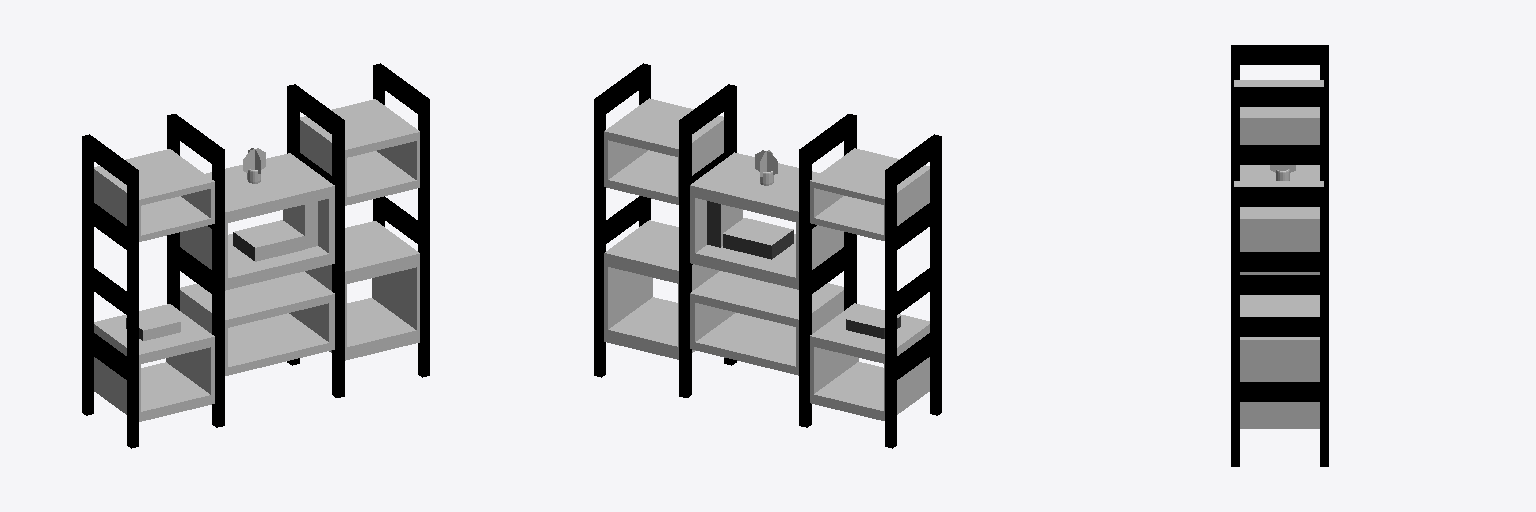
Rendered from etagere.obj.
The picture shows the model from 3 angles: view 1: azimuth 30°, elevation 25°; view 2: azimuth 150°, elevation 25°; view 3: azimuth 270°, elevation 25°; orthographic projection.
Visible parts, largest first — view 1: Pot.003_Cylinder.013; view 2: Pot.003_Cylinder.013; view 3: Pot.003_Cylinder.013.
Boxes of the visible parts, box(x1,y1,x2,y2) form: Pot.003_Cylinder.013: box(82, 63, 429, 448); Pot.003_Cylinder.013: box(594, 63, 941, 448); Pot.003_Cylinder.013: box(1231, 45, 1328, 466).
Bounding box in the file's own units: 1.92 × 1.7 × 0.55.